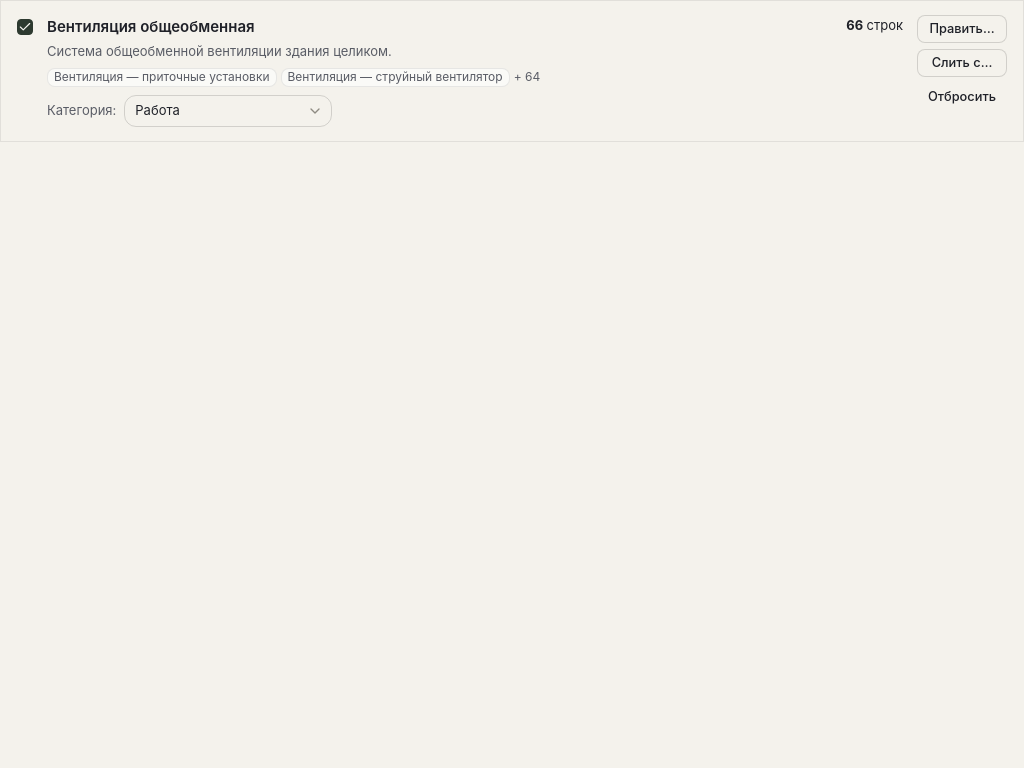
it: DraftCard › «Слить с…» › цели: другой открытый черновик и активные семьи ТОЙ ЖЕ единицы, без чужих единиц и самого источника
Click the button "Слить с…" at (962, 63), box [917,49,1007,77]
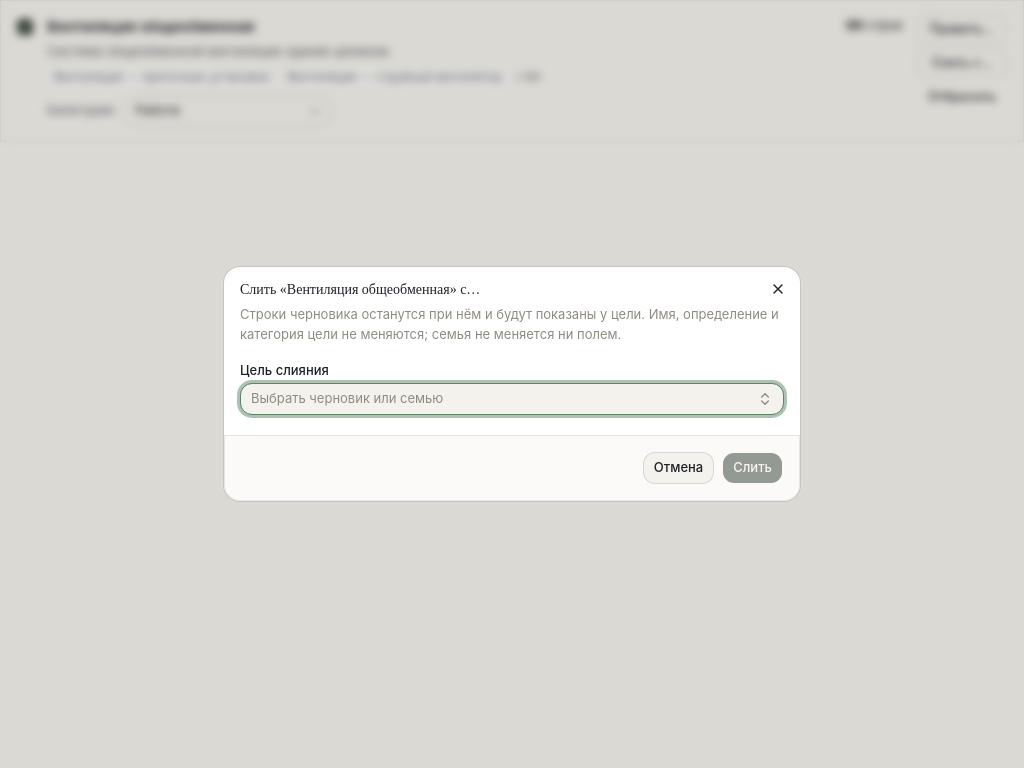
expect the dialog is shown: met, box [224,267,800,501]
Click the dropdown named "Цель слияния" at (347, 398), box [240,383,784,415]
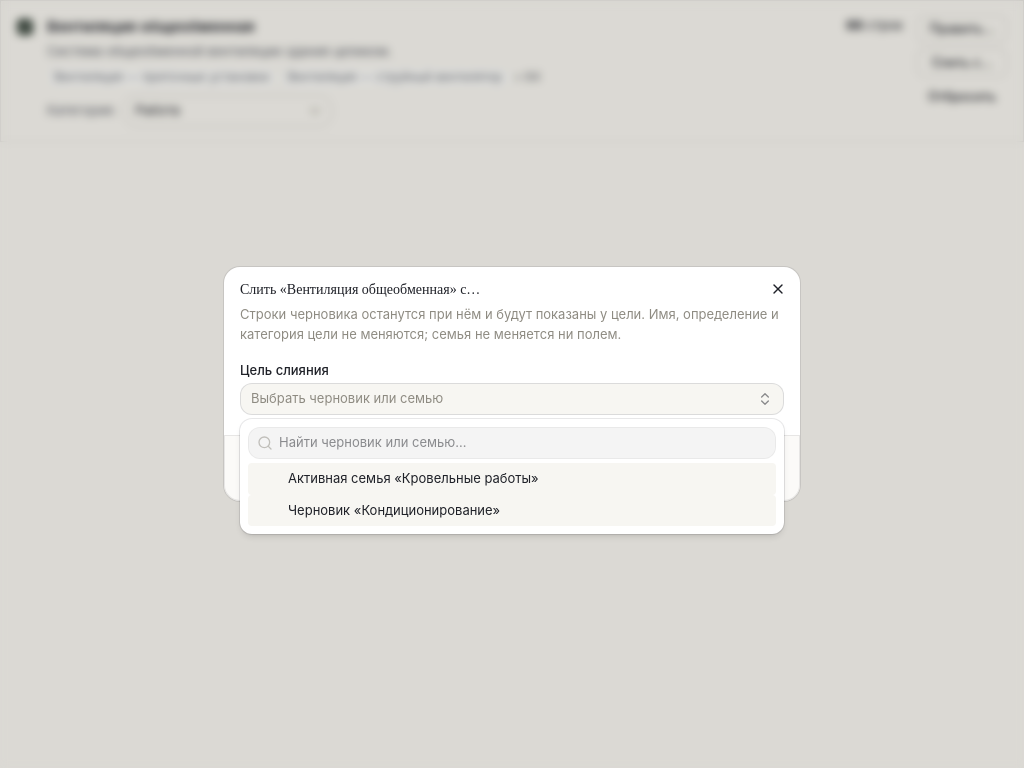
expect the option "Черновик «Кондиционирование»" is shown: met, box [248,494,776,526]
expect the option "Активная семья «Кровельные работы»" is shown: met, box [248,463,776,494]
